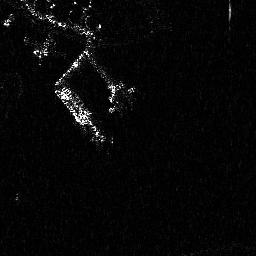ship: (54, 89, 88, 125)
